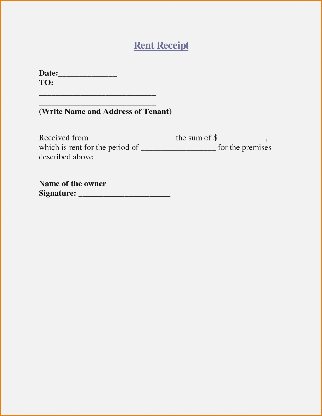textline: (90, 128, 174, 144), (79, 189, 174, 203), (38, 88, 160, 98), (56, 78, 158, 89), (38, 98, 159, 107), (109, 178, 184, 192), (140, 143, 218, 155), (58, 65, 119, 78), (219, 130, 267, 145)
